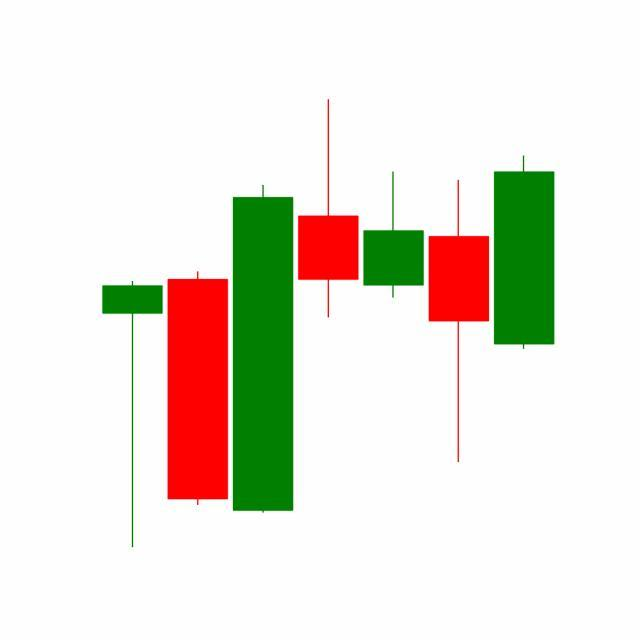Hikkake Pattern: (165, 99, 492, 518)
